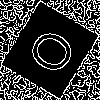O: (25, 25, 87, 83)
